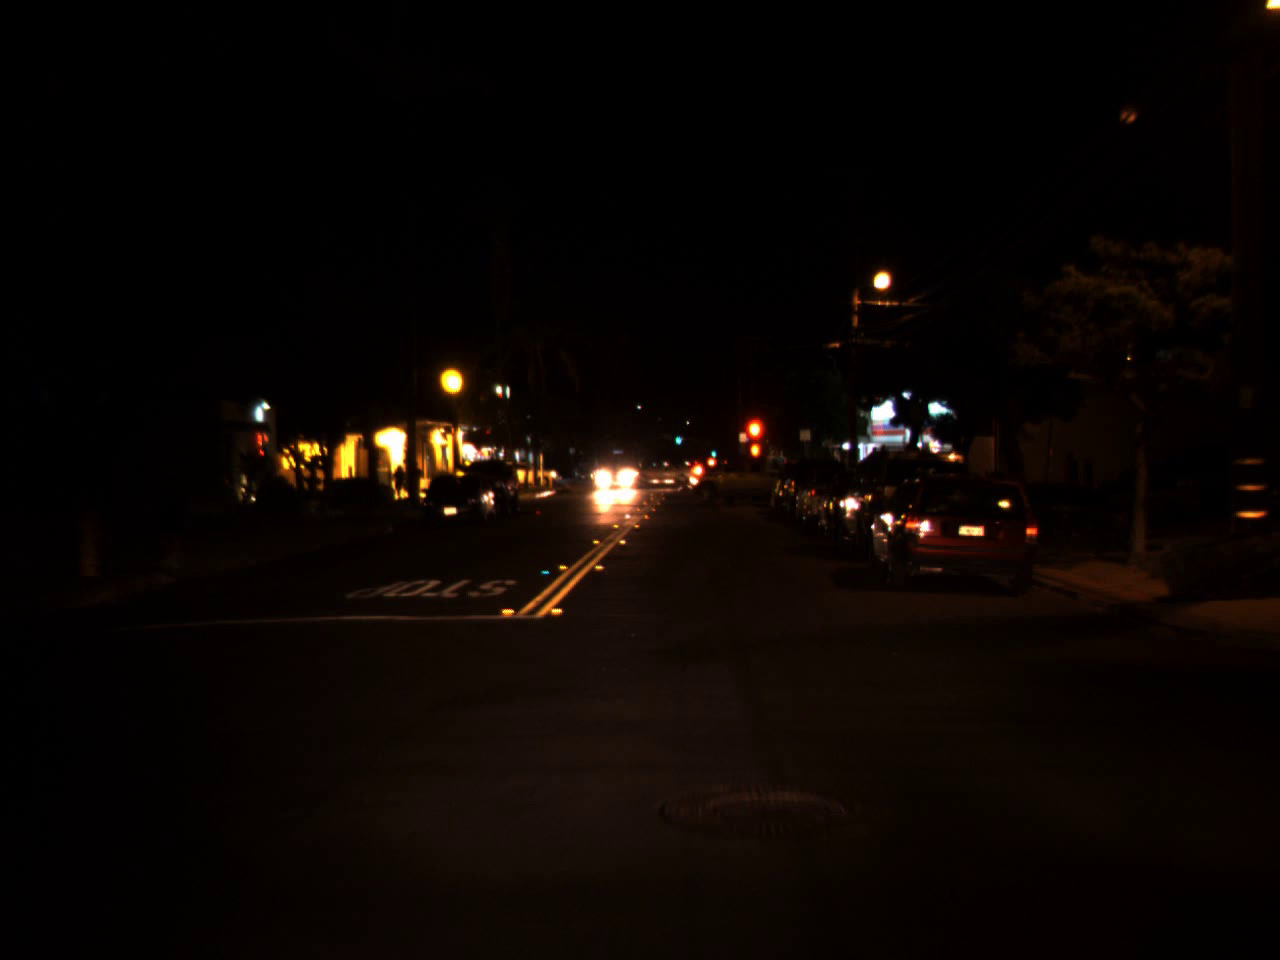go: (673, 428, 682, 446), (709, 444, 718, 459)
stop: (741, 415, 766, 469)
